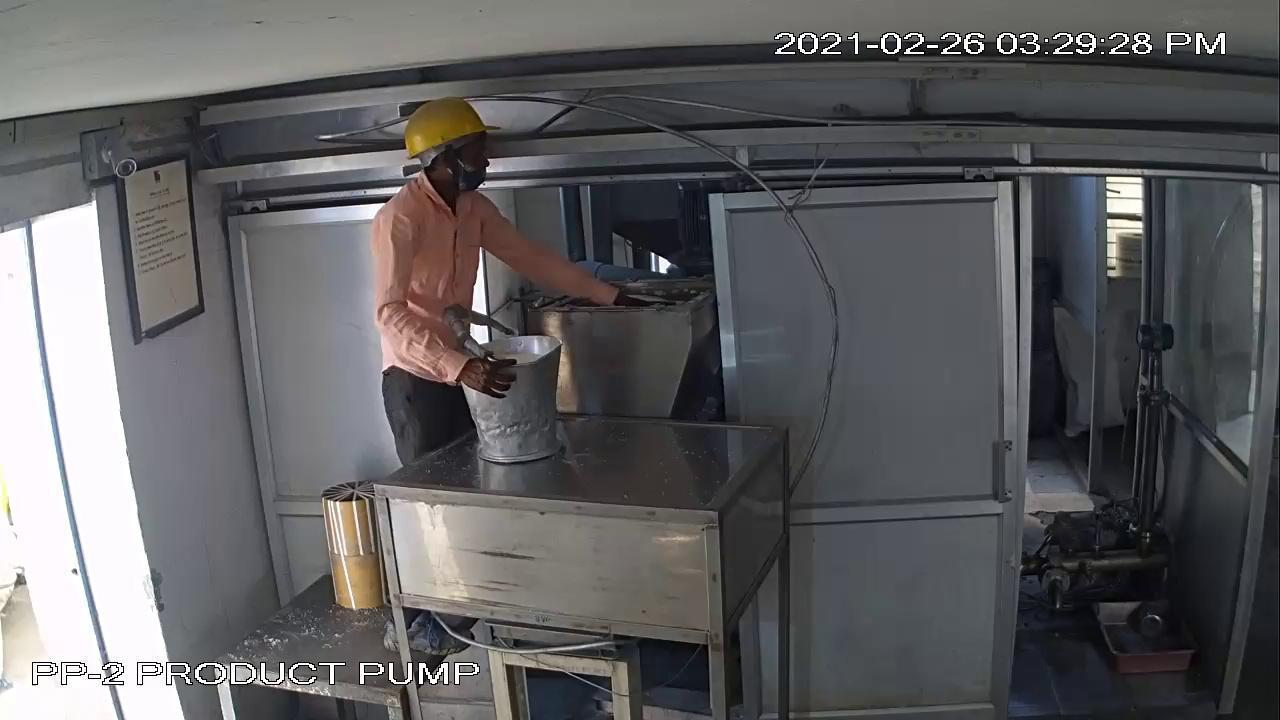helmet: (395, 97, 503, 156)
